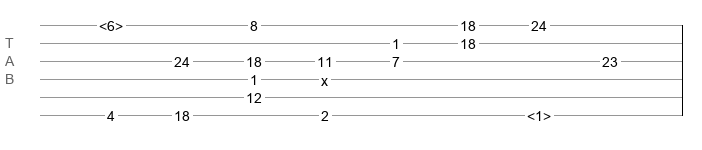1: (250, 72, 258, 82), (392, 36, 400, 46)
11: (317, 54, 333, 64)
12: (246, 90, 262, 100)
18: (174, 108, 190, 118), (246, 54, 262, 64), (460, 36, 476, 46), (460, 18, 476, 28)
2: (321, 108, 329, 118)
23: (602, 54, 618, 64)
24: (174, 54, 190, 64), (531, 18, 547, 28)
4: (107, 108, 115, 118)
7: (392, 54, 400, 64)
8: (250, 18, 258, 28)
harmonic: (99, 18, 123, 28), (527, 108, 551, 118)
x: (321, 73, 328, 81)
